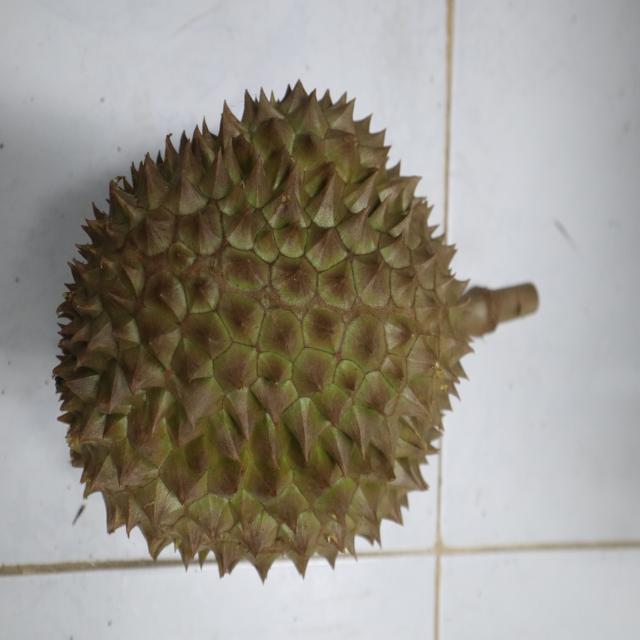mature: (47, 79, 483, 584)
